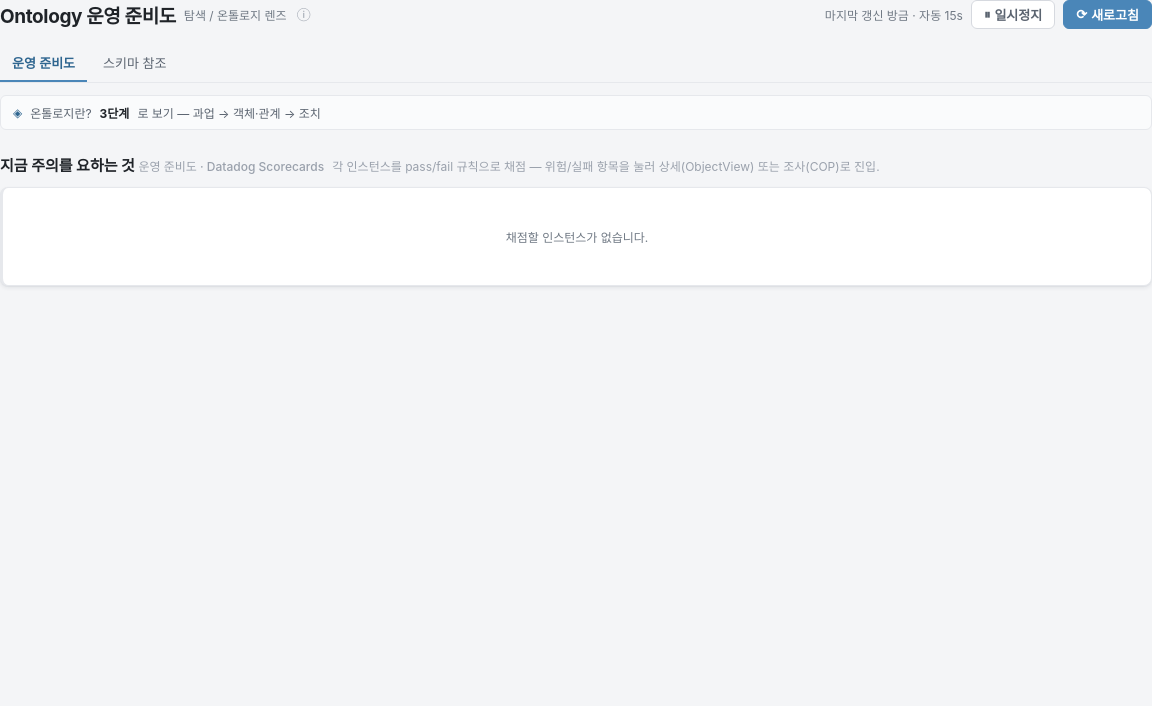
Ontology — all-pass / empty / env-missing › empty: 빈 objects → 스코어카드 empty 안내 + 스키마 참조 탭 여전히 카드 8장
This screenshot has width=1152, height=706.
expect the text "채점할 인스턴스가 없습니다." is shown: met, box [506,230,648,245]
Click the tab "스키마 참조": (135, 64) [91,45,179,82]
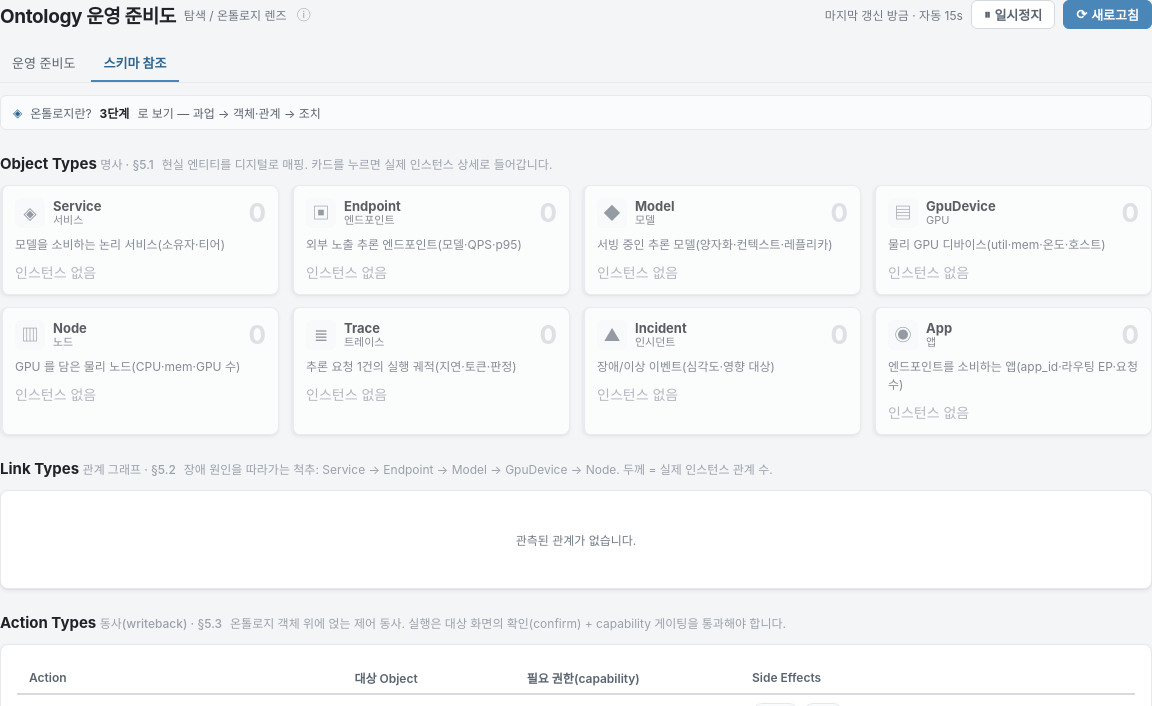
expect the number of elements with class "onto-card" is 8: met
expect the text "관측된 관계가 없습니다." is shown: met, box [516,533,636,548]
